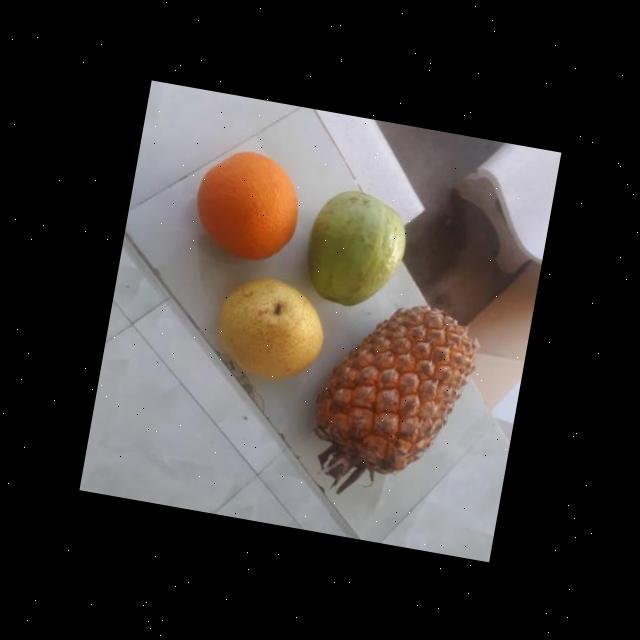guava: (298, 186, 411, 317)
orange: (188, 144, 312, 272)
pear: (208, 270, 330, 393)
pineapple: (304, 296, 476, 492)
